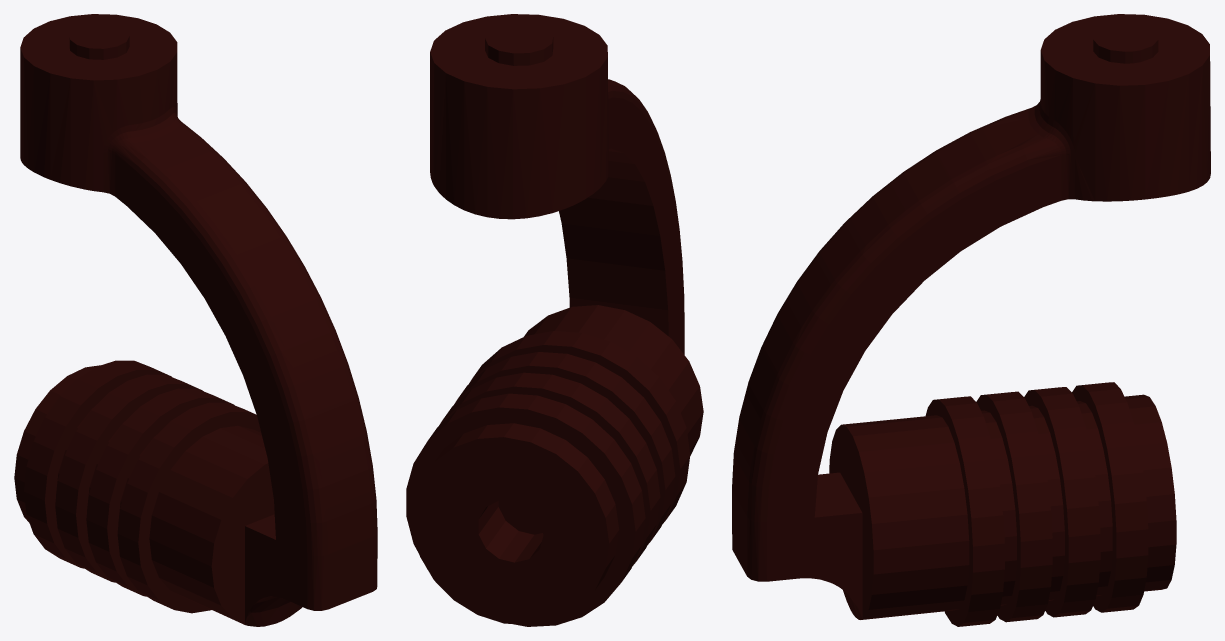
File: Mars6Mars_Rover__Curiosity_1_0__-_33_Front_Wheel_Servo_mech.003.dae
The picture shows the model from 3 angles, left to right: view 1: azimuth 30°, elevation 25°; view 2: azimuth 150°, elevation 25°; view 3: azimuth 270°, elevation 25°; orthographic projection. The views are drawn at different scales.
Visible parts, largest first — view 1: tmp_export_Mars6Mars_Rover__Curiosity_1_0__-_33_Front_Wheel_; view 2: tmp_export_Mars6Mars_Rover__Curiosity_1_0__-_33_Front_Wheel_; view 3: tmp_export_Mars6Mars_Rover__Curiosity_1_0__-_33_Front_Wheel_.
Boxes of the visible parts, left/top/right/bottom form: tmp_export_Mars6Mars_Rover__Curiosity_1_0__-_33_Front_Wheel_: left=14, top=14, right=377, bottom=626; tmp_export_Mars6Mars_Rover__Curiosity_1_0__-_33_Front_Wheel_: left=406, top=14, right=703, bottom=626; tmp_export_Mars6Mars_Rover__Curiosity_1_0__-_33_Front_Wheel_: left=732, top=14, right=1210, bottom=626.
Bounding box in the file's own units: 0.3733 × 0.6624 × 0.8558.
